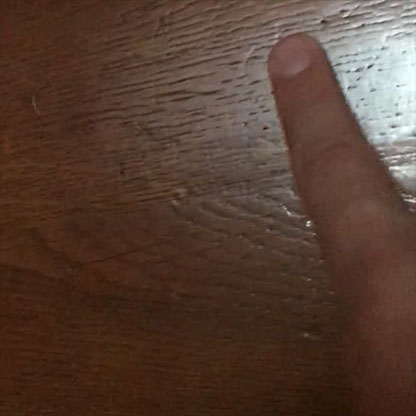fingertip: (256, 23, 346, 100)
